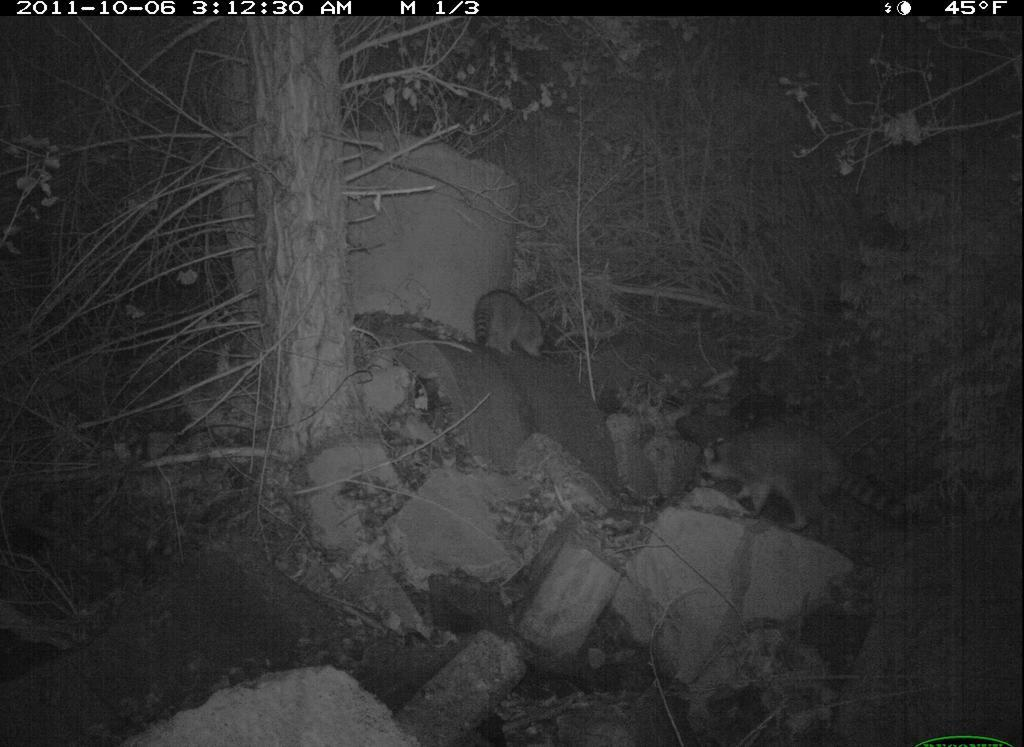raccoon: (706, 423, 898, 543), (468, 271, 564, 381)
